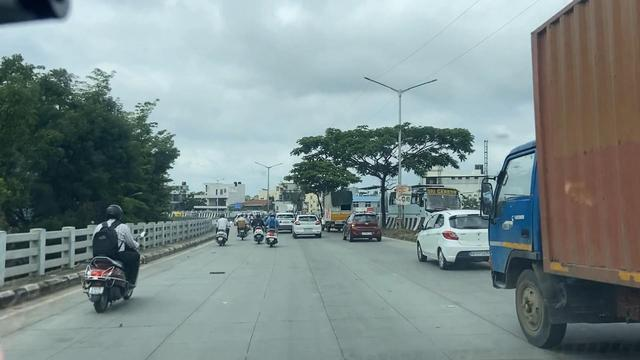LMV: (87, 195, 143, 292), (350, 209, 381, 246), (212, 213, 233, 247), (295, 213, 320, 238), (268, 206, 281, 252), (253, 213, 264, 245), (237, 213, 250, 238)
